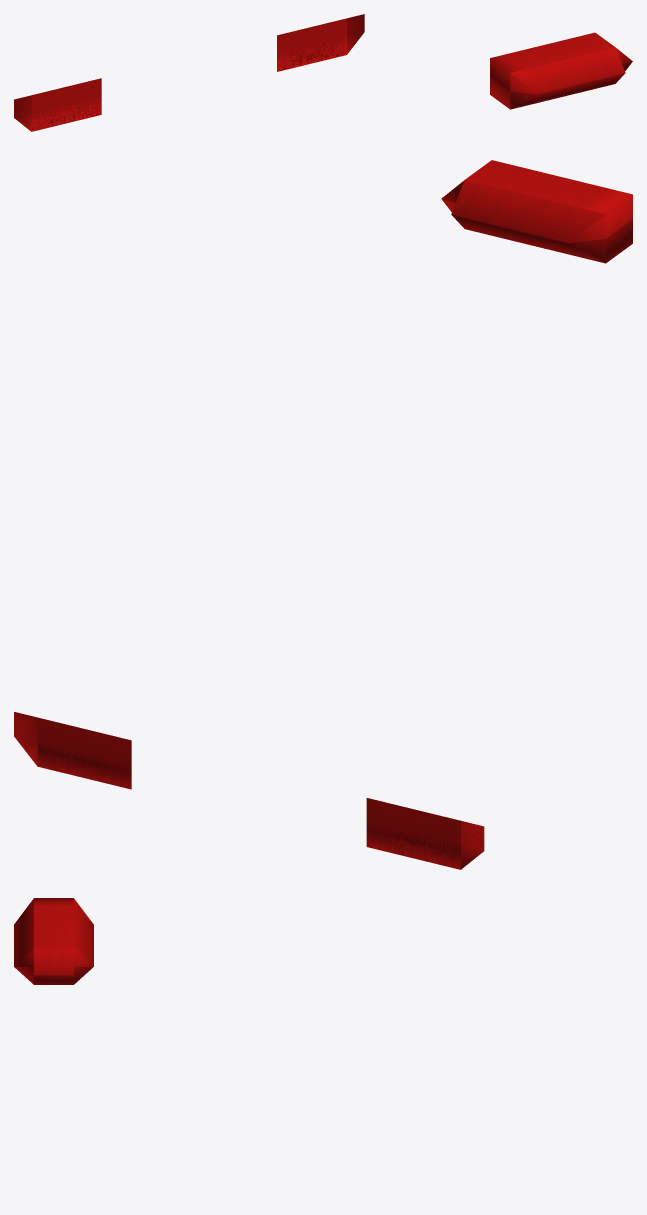
3 renders of one model, top to bottom at view 1: azimuth 30°, elevation 25°; view 2: azimuth 150°, elevation 25°; view 3: azimuth 270°, elevation 25°, orthographic. The views are drawn at different scales.
Size of the model in its own units: 1.6 by 1.04 by 2.48.
1 material, 1 textured.
